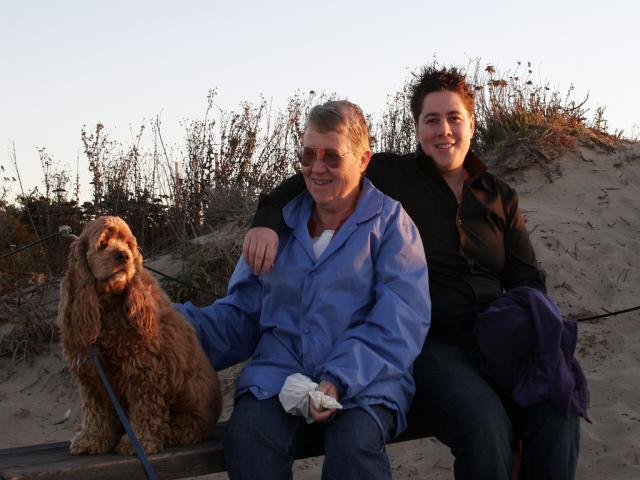Dog: (55, 216, 224, 455)
